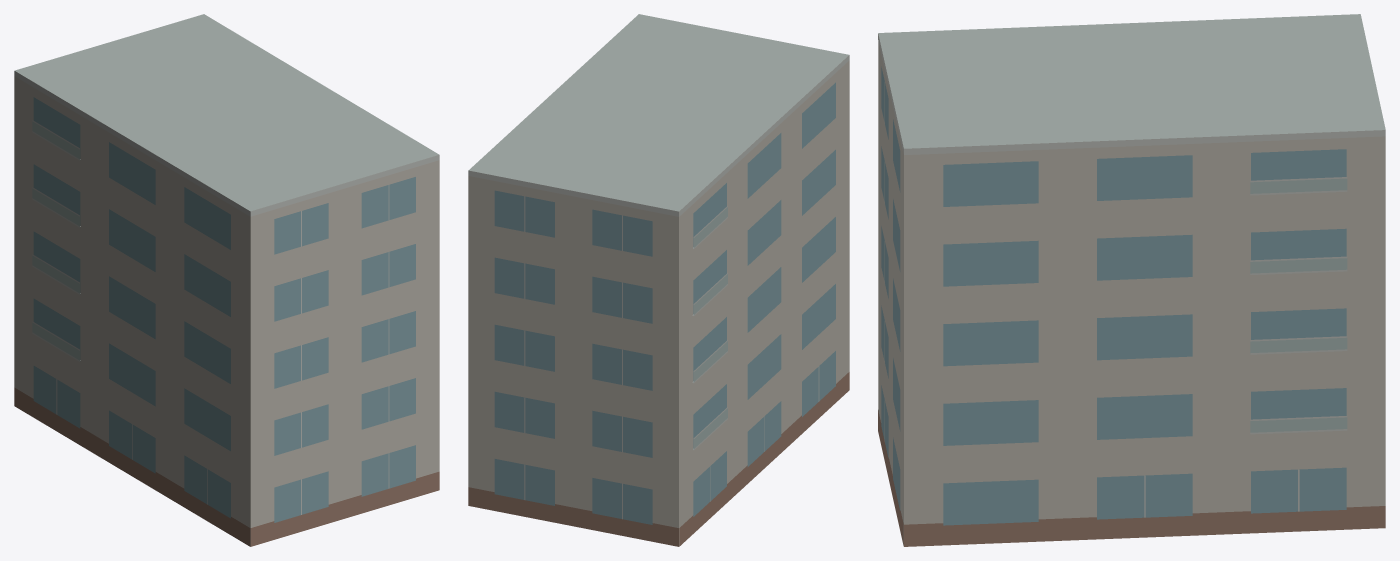
Rendered from survey-upis-32670356.glb.
3 renders of one model, left to right at view 1: azimuth 30°, elevation 25°; view 2: azimuth 150°, elevation 25°; view 3: azimuth 270°, elevation 25°, orthographic. The views are drawn at different scales.
Parts seen in each view (by area): view 1: survey-upis-32670356.tmp; view 2: survey-upis-32670356.tmp; view 3: survey-upis-32670356.tmp.
Boxes of the visible parts, left/top/right/bottom form: survey-upis-32670356.tmp: left=14, top=14, right=439, bottom=546; survey-upis-32670356.tmp: left=468, top=14, right=849, bottom=546; survey-upis-32670356.tmp: left=878, top=14, right=1385, bottom=546.
Bounding box in the file's own units: 11.08 × 15.25 × 17.63.
